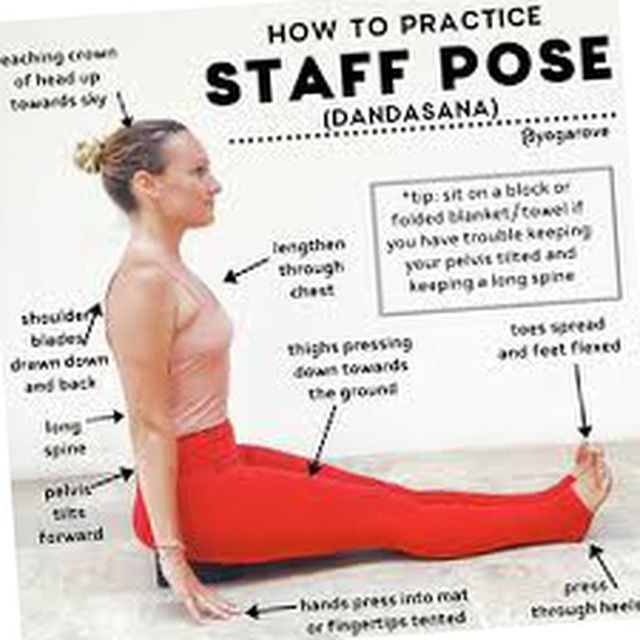Staff_Pose: (73, 119, 614, 625)
